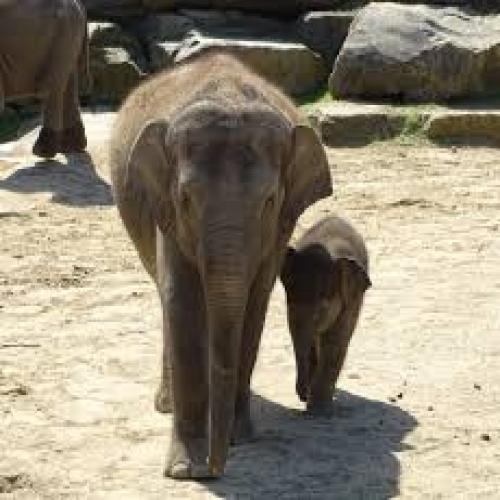asian_elephant-endangered: (111, 53, 315, 478), (277, 214, 367, 404), (0, 2, 88, 152)
